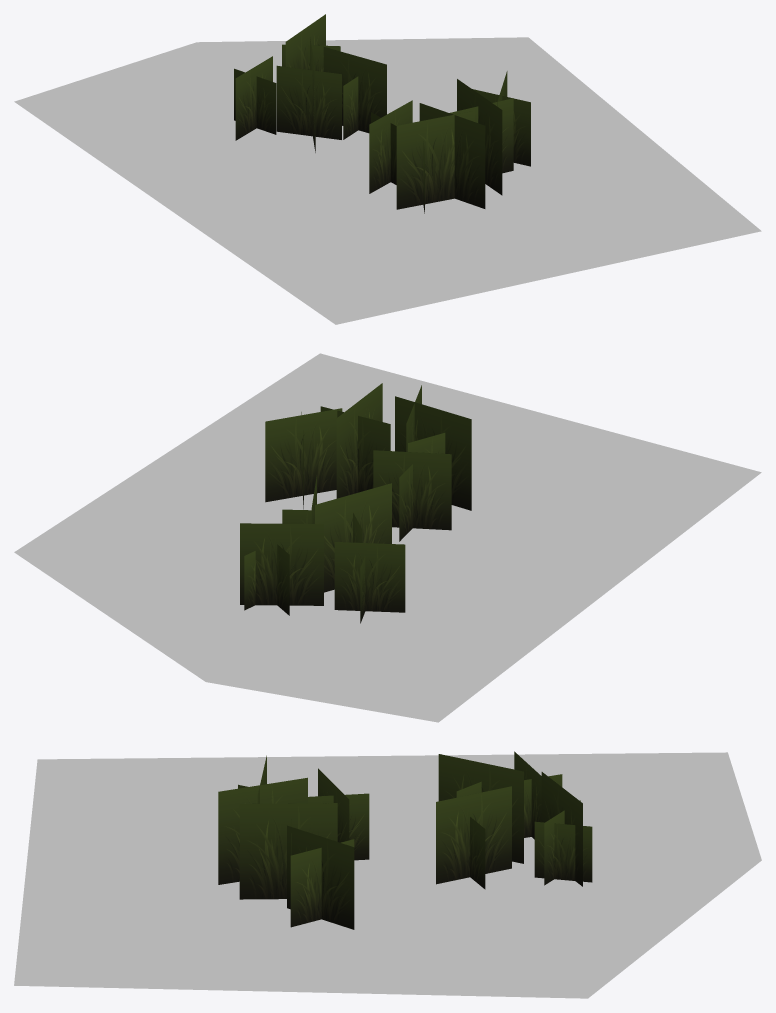
The model's file is Mud_Decal_07.fbx.
The picture shows the model from 3 angles, top to bottom: view 1: azimuth 30°, elevation 25°; view 2: azimuth 150°, elevation 25°; view 3: azimuth 270°, elevation 25°; orthographic projection. The views are drawn at different scales.
Visible parts, largest first — view 1: Mud_Decal_07; view 2: Mud_Decal_07; view 3: Mud_Decal_07.
Boxes of the visible parts, x1,y1,x2,y2 form: Mud_Decal_07: [14, 14, 761, 324]; Mud_Decal_07: [14, 353, 761, 722]; Mud_Decal_07: [14, 751, 761, 998].
Size of the model in its own units: 5.14 by 6.59 by 0.9507.
